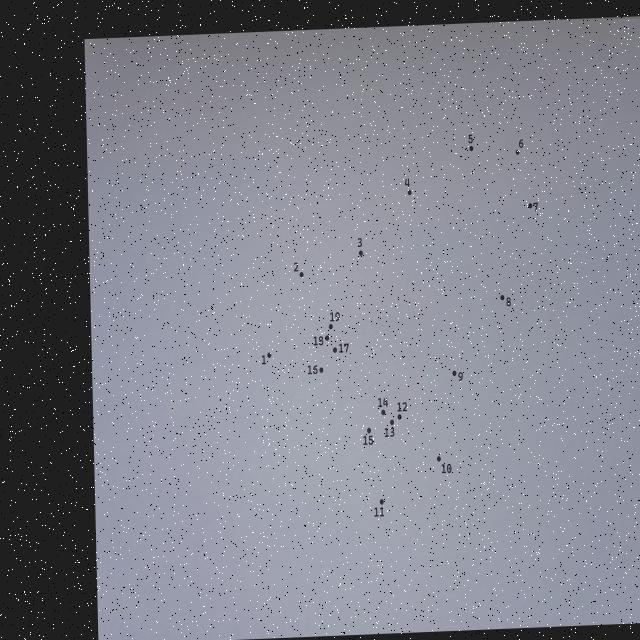Dot: (366, 427, 372, 434), (436, 456, 442, 462), (397, 413, 402, 420), (452, 370, 457, 377), (319, 366, 323, 374), (381, 409, 386, 415), (500, 295, 505, 301), (407, 189, 412, 195), (299, 272, 304, 277), (469, 146, 474, 151), (267, 352, 271, 358), (325, 335, 329, 341), (333, 347, 337, 353), (359, 250, 363, 256), (380, 499, 384, 505), (528, 203, 532, 209), (516, 149, 520, 155), (329, 324, 333, 329), (390, 420, 394, 425)
DotNumber: (436, 456, 452, 474), (374, 499, 385, 517), (333, 342, 349, 354), (329, 312, 340, 329), (378, 398, 388, 416), (363, 428, 373, 446), (397, 402, 407, 420), (384, 419, 394, 437), (314, 335, 329, 346), (294, 262, 304, 278), (308, 365, 324, 374), (404, 178, 412, 195), (452, 370, 463, 382), (500, 295, 511, 307), (516, 139, 524, 155), (262, 352, 271, 364), (468, 134, 474, 152), (528, 202, 538, 212), (358, 238, 363, 256)
Number: (441, 463, 452, 474), (314, 335, 324, 346), (307, 364, 318, 374), (363, 435, 373, 446), (374, 506, 385, 516), (330, 312, 340, 322), (339, 343, 349, 353), (378, 398, 388, 408), (397, 402, 407, 412), (385, 427, 395, 437), (533, 202, 539, 212), (518, 139, 524, 148), (506, 297, 511, 307), (405, 178, 410, 188), (468, 134, 473, 144), (458, 372, 463, 381), (262, 354, 266, 364), (294, 262, 298, 272), (358, 238, 362, 248)
